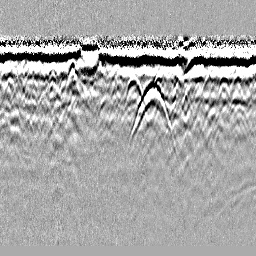cavity: (122, 72, 143, 103)
